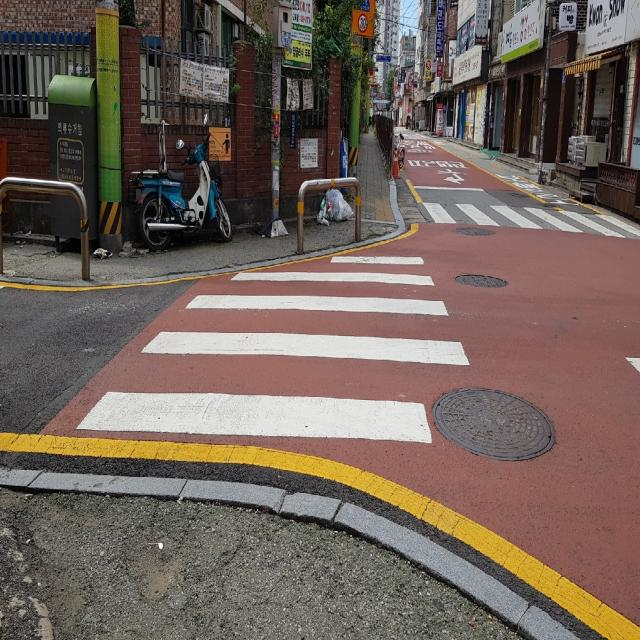횡단보도: (74, 252, 472, 448), (414, 190, 640, 243)
